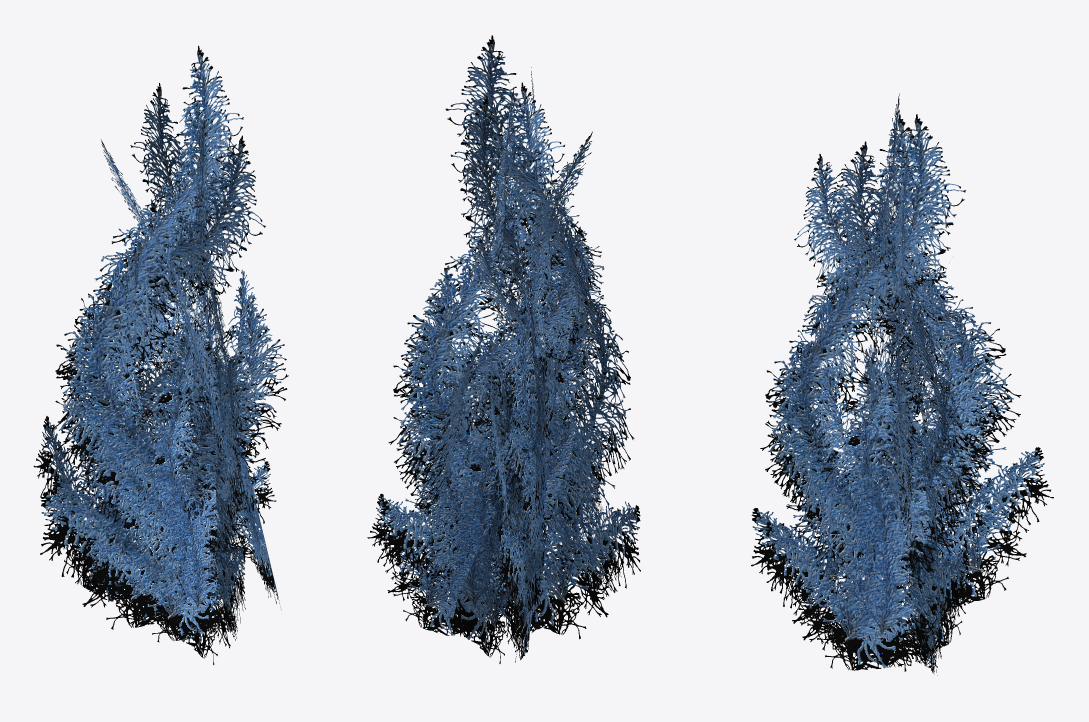
File: vege_magique2_1.FBX
The picture shows the model from 3 angles, left to right: view 1: azimuth 30°, elevation 25°; view 2: azimuth 150°, elevation 25°; view 3: azimuth 270°, elevation 25°; orthographic projection. The views are drawn at different scales.
Visible parts, largest first — view 1: Plane455; view 2: Plane455; view 3: Plane455.
Boxes of the visible parts, x1,y1,x2,y2 form: Plane455: (33, 45, 288, 664); Plane455: (367, 35, 640, 663); Plane455: (751, 93, 1053, 675).
Bounding box in the file's own units: 153 × 334 × 166.
